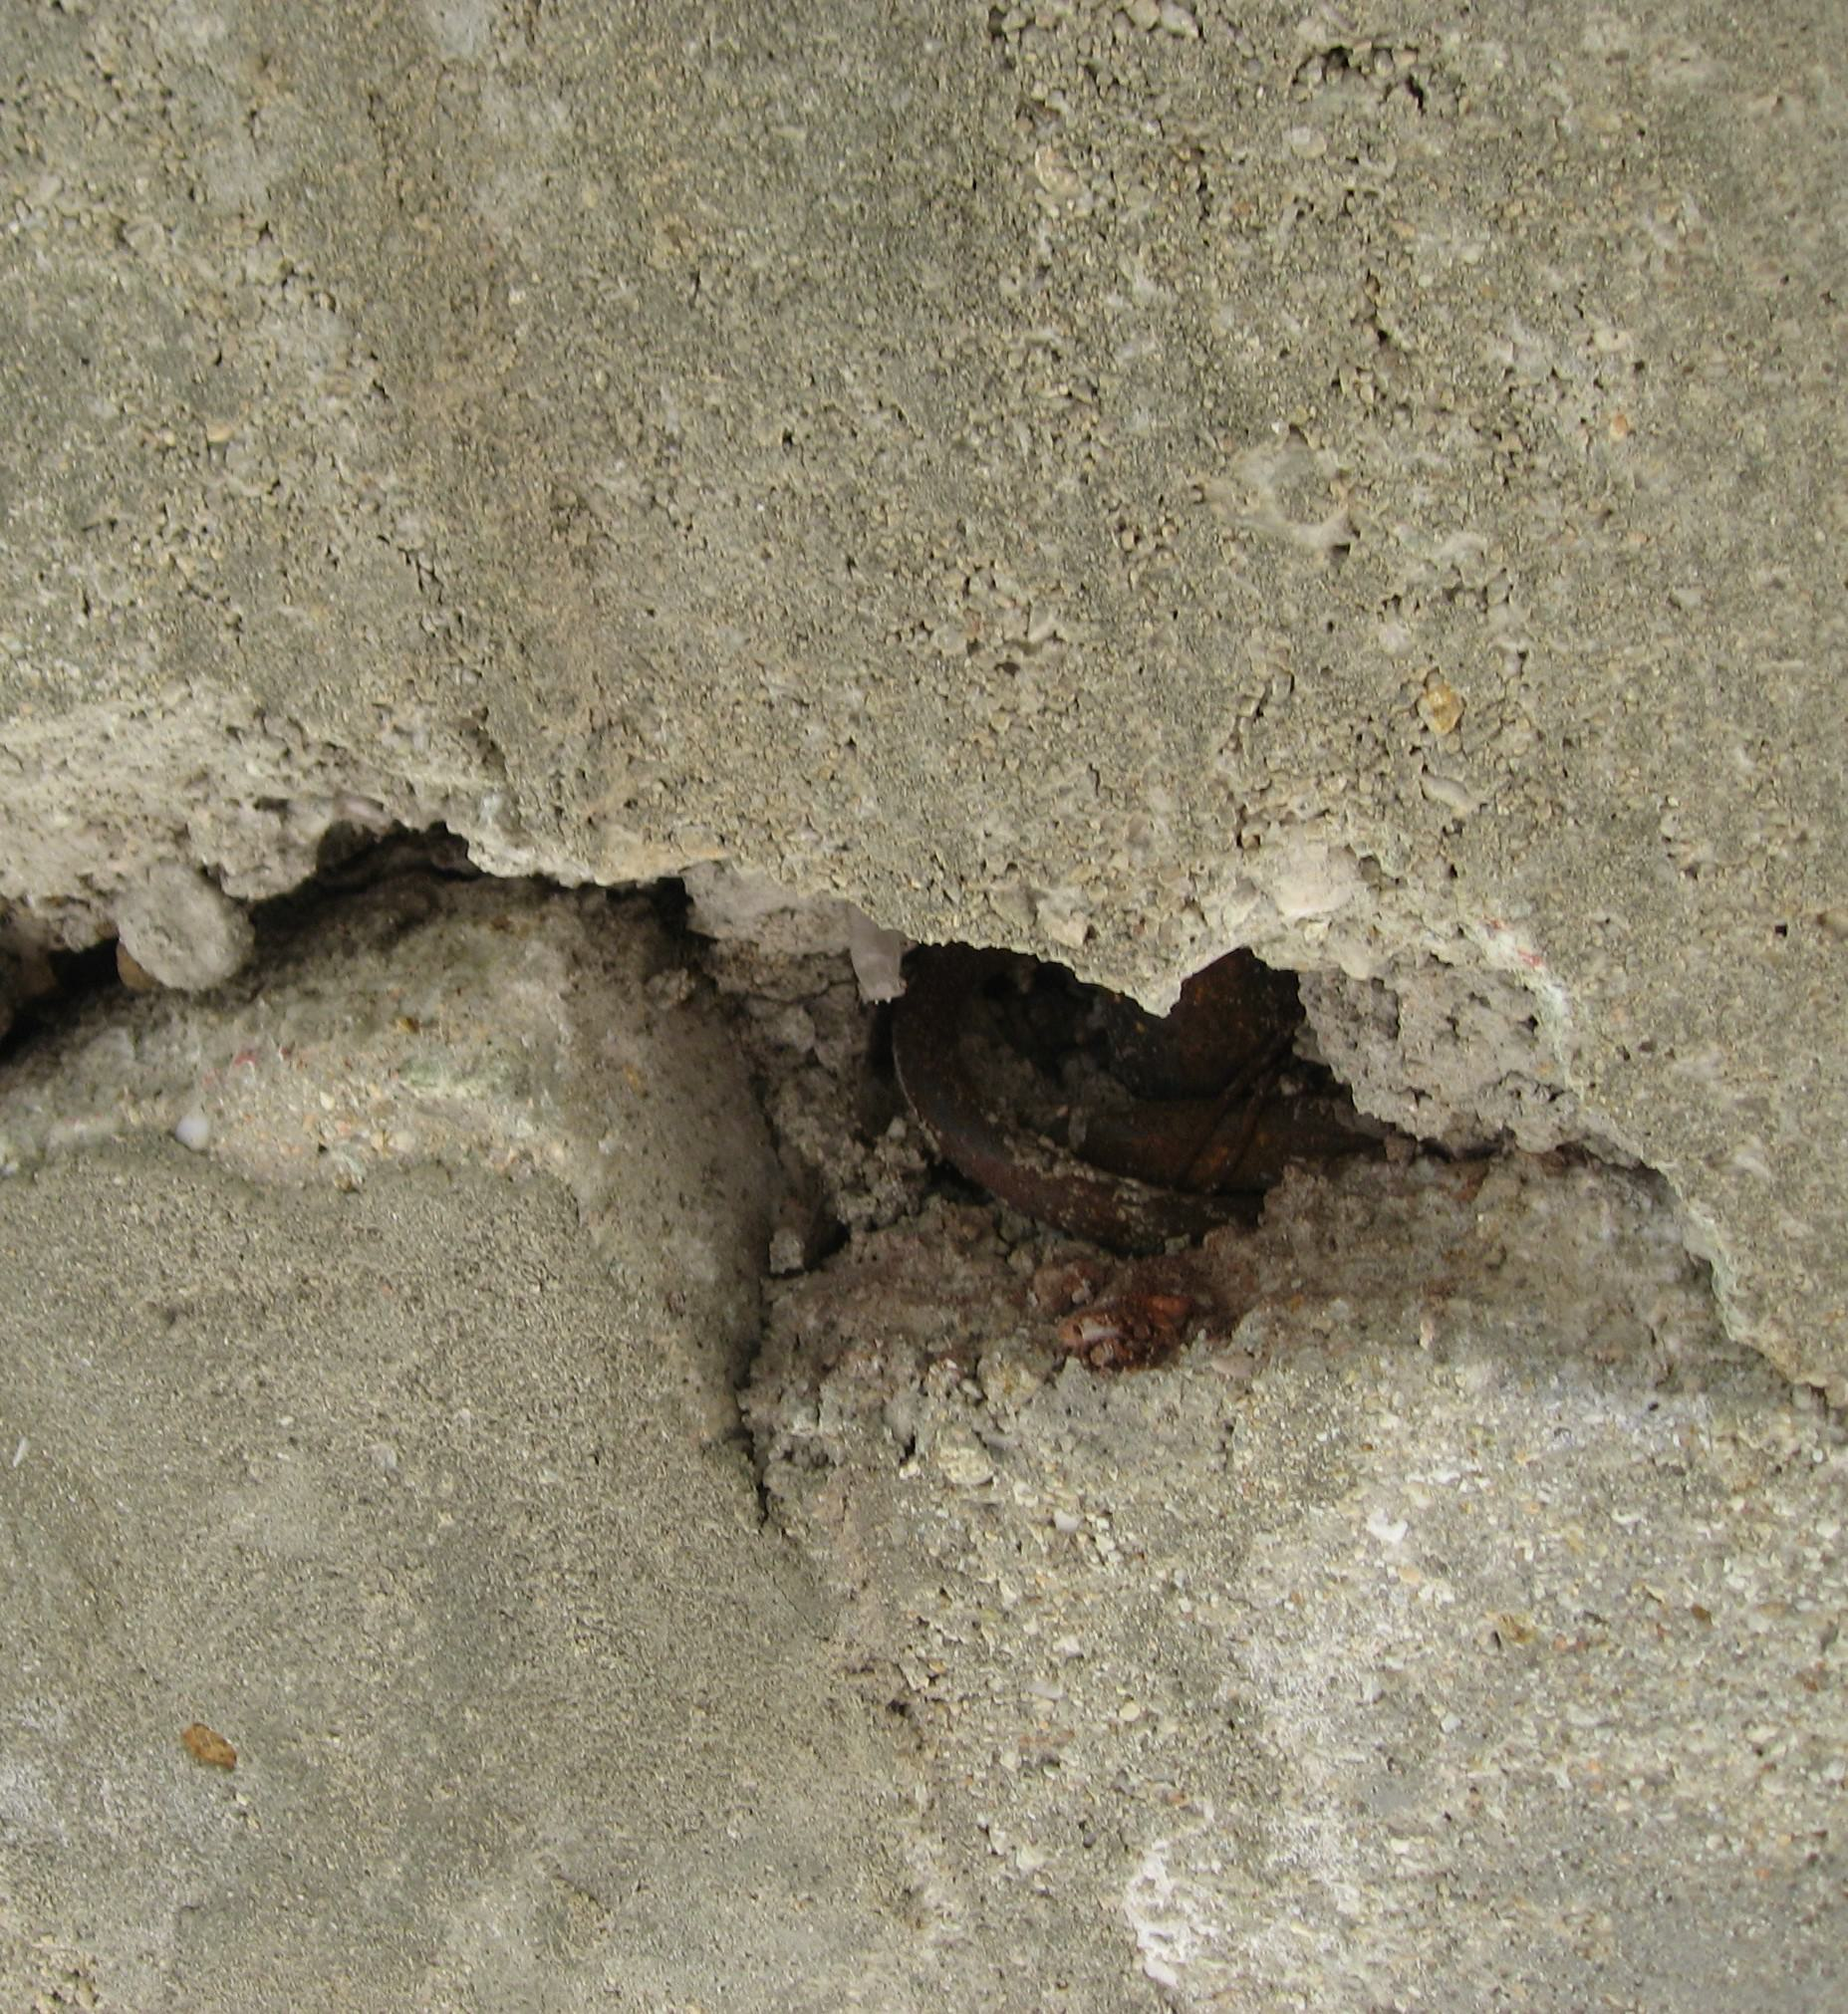Exposed reinforcement: (893, 993, 1246, 1247)
Spalling: (2, 788, 1715, 1516)
